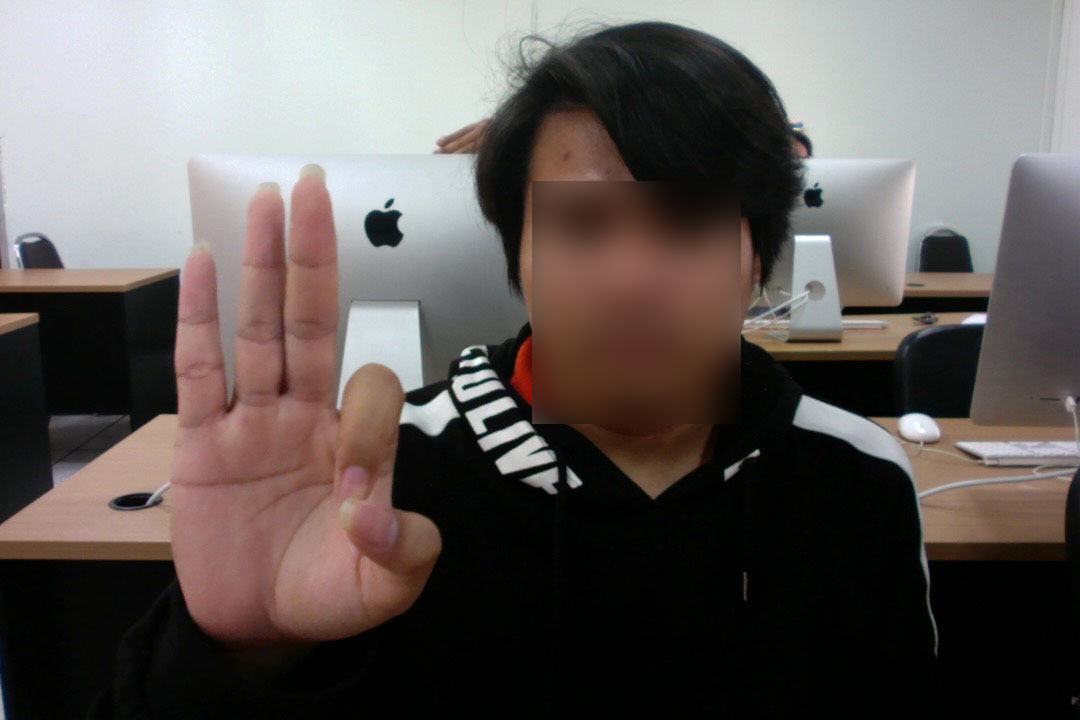for: (132, 125, 471, 689)
